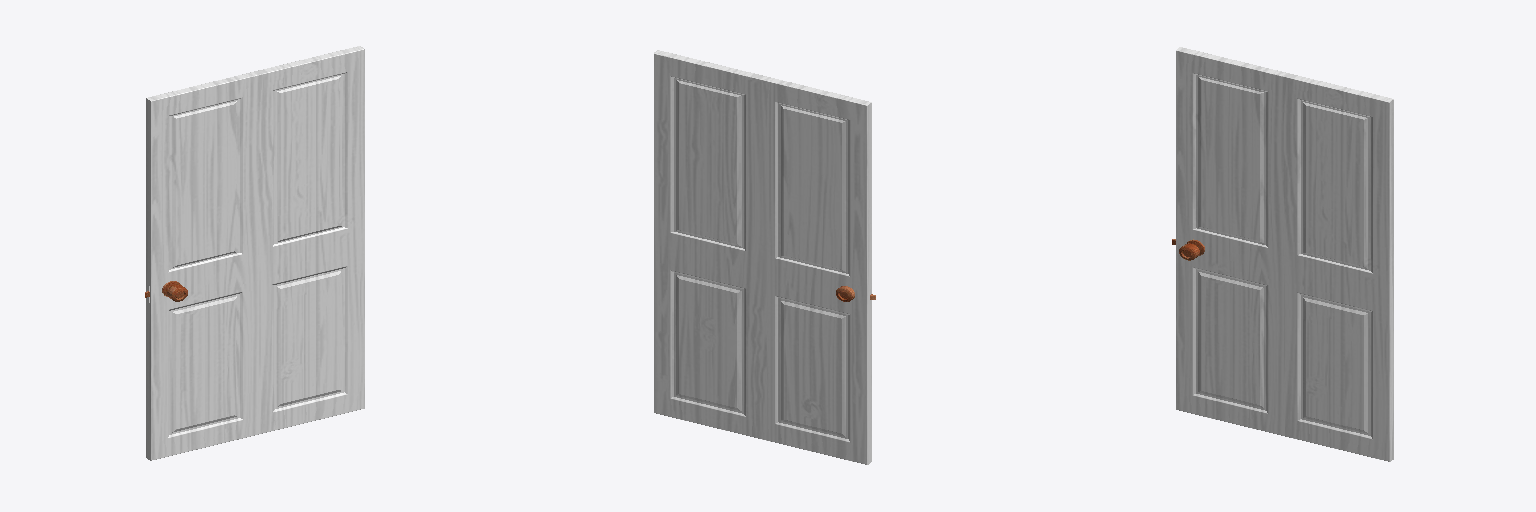
3 renders of one model, left to right at view 1: azimuth 30°, elevation 25°; view 2: azimuth 150°, elevation 25°; view 3: azimuth 330°, elevation 25°, orthographic.
Visible parts, largest first — view 1: Ctrl_Door_01DoorRig_01Doornob_A_02Ctrl_DoorHandleB_03; view 2: Ctrl_Door_01DoorRig_01Doornob_A_02Ctrl_DoorHandleB_03; view 3: Ctrl_Door_01DoorRig_01Doornob_A_02Ctrl_DoorHandleB_03.
Part boxes in pixels (left/top/right/bottom): Ctrl_Door_01DoorRig_01Doornob_A_02Ctrl_DoorHandleB_03: left=145, top=46, right=364, bottom=460; Ctrl_Door_01DoorRig_01Doornob_A_02Ctrl_DoorHandleB_03: left=654, top=50, right=875, bottom=464; Ctrl_Door_01DoorRig_01Doornob_A_02Ctrl_DoorHandleB_03: left=1172, top=47, right=1393, bottom=461.
Bounding box in the file's own units: 5.38 × 8.45 × 0.7607.
2 materials, 2 textured.